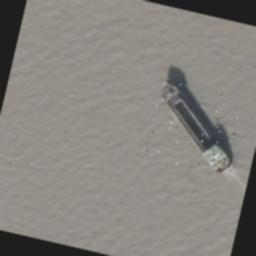boat: (144, 78, 250, 176)
